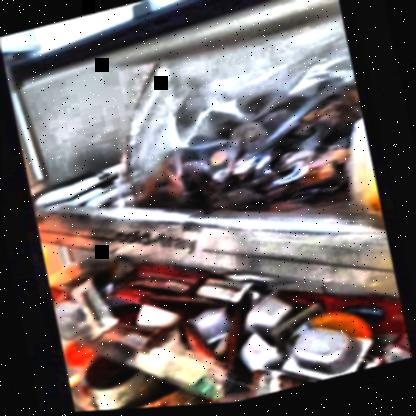dates: (128, 68, 360, 240)
